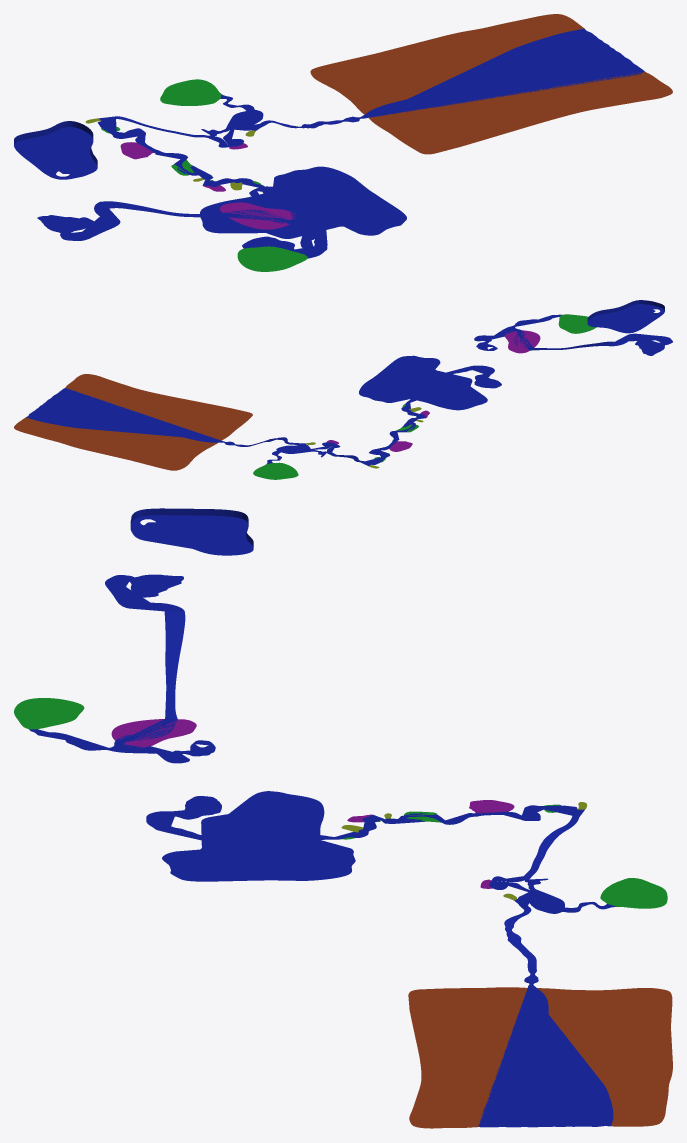
The model's file is World-Whitebox - Dungeon - Draft Final V1.fbx.
3 views of the same model, one above another, from view 1: azimuth 30°, elevation 25°; view 2: azimuth 150°, elevation 25°; view 3: azimuth 270°, elevation 25° (orthographic). The views are drawn at different scales.
Visible parts, largest first — view 1: Dungeon Floor Layout (Floor 1-4); view 2: Dungeon Floor Layout (Floor 1-4); view 3: Dungeon Floor Layout (Floor 1-4).
Boxes of the visible parts, box(x1,y1,x2,y2) form: Dungeon Floor Layout (Floor 1-4): box(14, 14, 672, 271); Dungeon Floor Layout (Floor 1-4): box(14, 300, 672, 479); Dungeon Floor Layout (Floor 1-4): box(14, 508, 672, 1128).
Size of the model in its own units: 45940 by 11185 by 31406.
